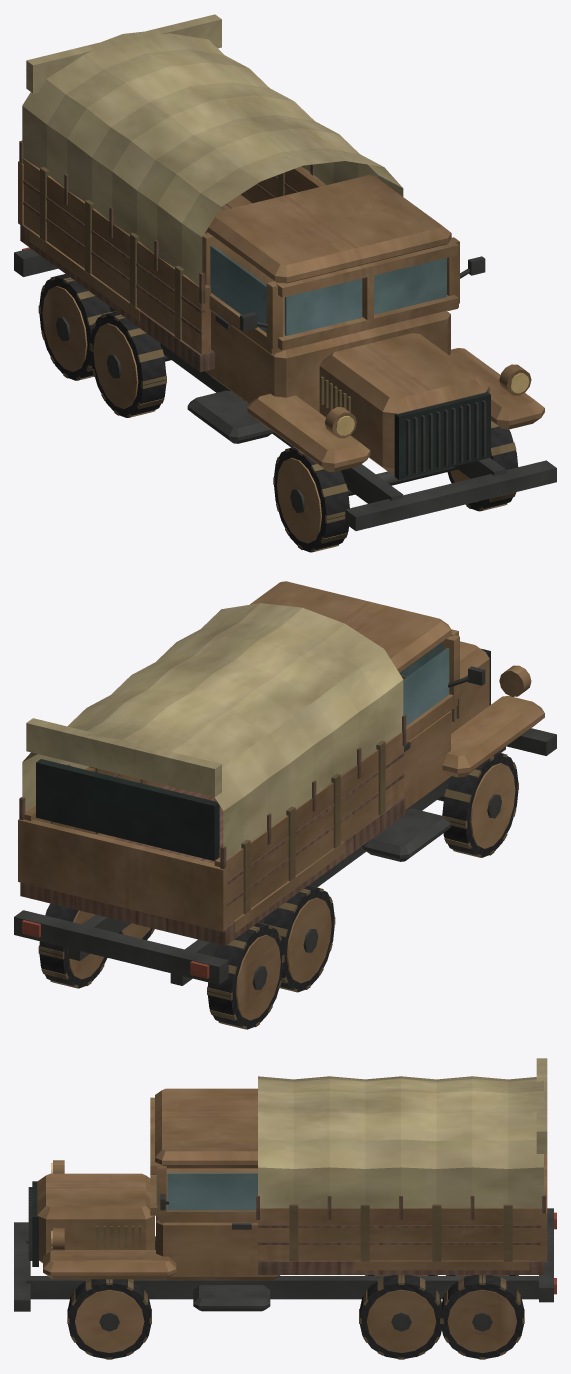
The model's file is isuzu-type94-cargo.glb.
3 renders of one model, top to bottom at view 1: azimuth 30°, elevation 25°; view 2: azimuth 150°, elevation 25°; view 3: azimuth 270°, elevation 25°, orthographic. The views are drawn at different scales.
Parts seen in each view (by area): view 1: Isuzu Type 94 | Planenwagen; view 2: Isuzu Type 94 | Planenwagen; view 3: Isuzu Type 94 | Planenwagen.
Part boxes in pixels (left/top/right/bottom): Isuzu Type 94 | Planenwagen: left=14, top=14, right=556, bottom=552; Isuzu Type 94 | Planenwagen: left=14, top=581, right=556, bottom=1029; Isuzu Type 94 | Planenwagen: left=14, top=1058, right=556, bottom=1359.
Bounding box in the file's own units: 2.25 × 2.59 × 5.51.
Materials: 1 (1 with a texture image).
